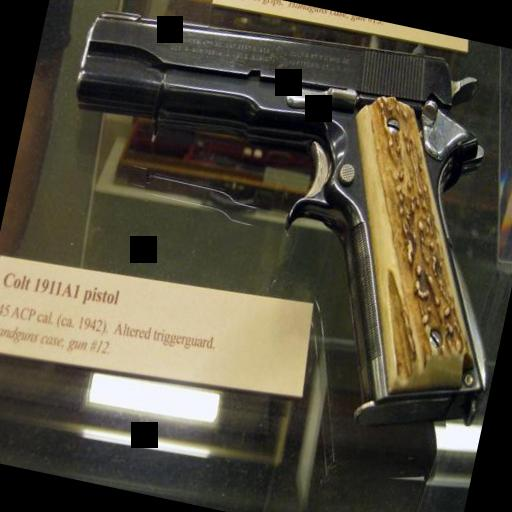Handgun: (11, 0, 512, 454)
